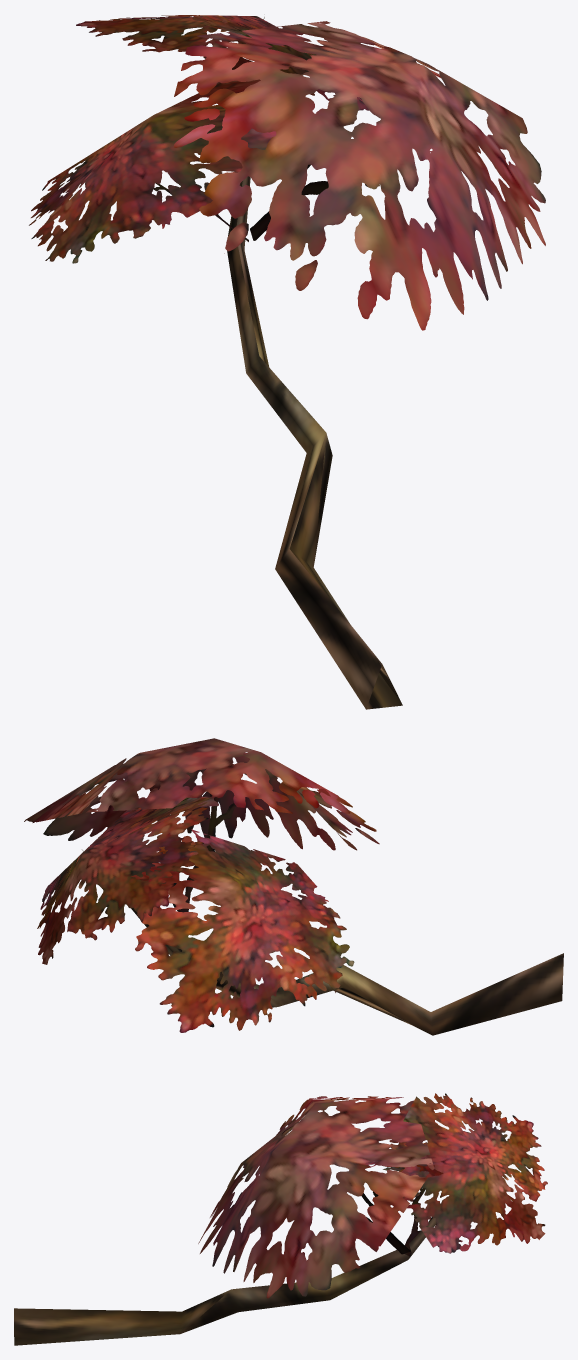
The model's file is FOL_TreeCherryBranchB.FBX.
The picture shows the model from 3 angles, top to bottom: view 1: azimuth 30°, elevation 25°; view 2: azimuth 150°, elevation 25°; view 3: azimuth 270°, elevation 25°; orthographic projection. The views are drawn at different scales.
Visible parts, largest first — view 1: FOL_TreeCherryBranchB; view 2: FOL_TreeCherryBranchB; view 3: FOL_TreeCherryBranchB.
Part boxes in pixels (box(x1,y1,x2,y2)): FOL_TreeCherryBranchB: box(29, 15, 545, 709); FOL_TreeCherryBranchB: box(24, 738, 563, 1035); FOL_TreeCherryBranchB: box(14, 1093, 547, 1345).
Bounding box in the file's own units: 830 × 794 × 1355.
Materials: 1 (1 with a texture image).
